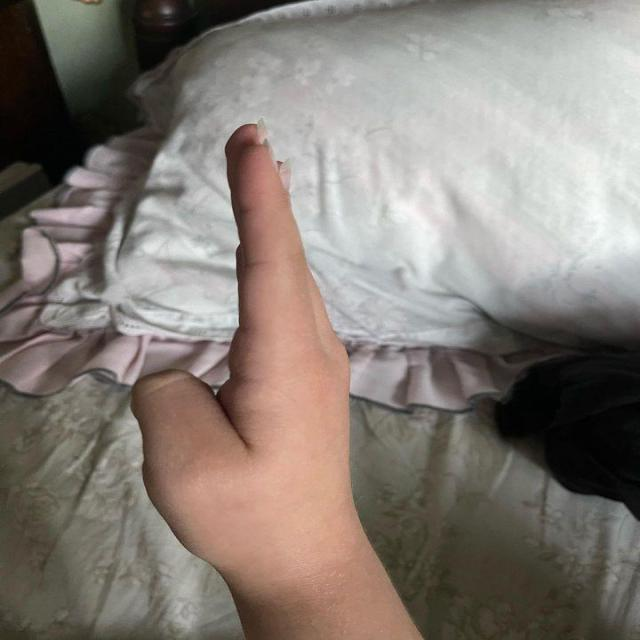B: (118, 114, 359, 549)
